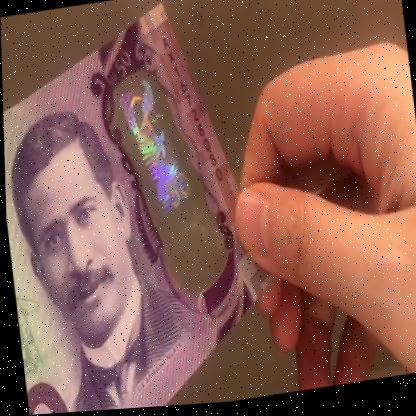50F: (114, 70, 207, 287)
